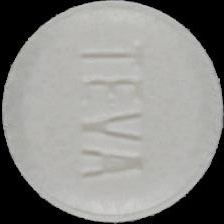63187-537: (0, 0, 224, 224)
